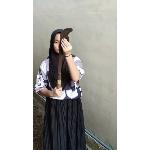Golok: (52, 27, 76, 94)
